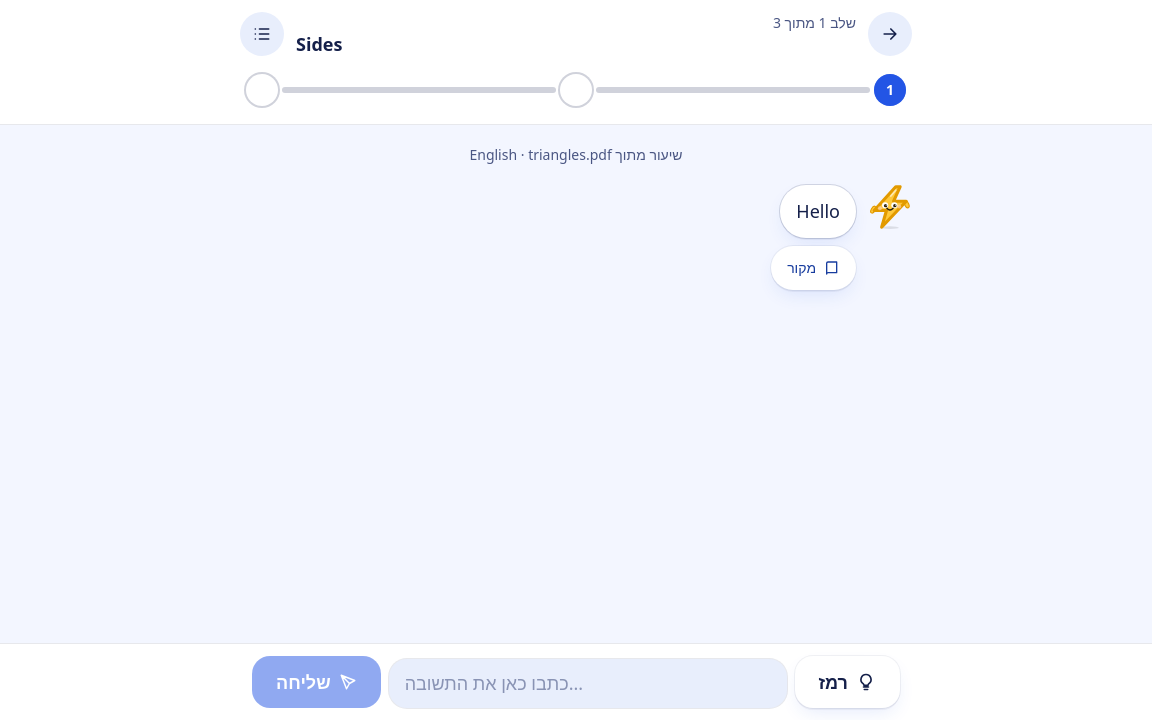
Scenario: answering › Stop keeps the partial text and gives the input back, and Continue asks again
expect the text "Hello" is shown: met, box [796,197,840,226]
Type "three" into the text box named "התשובה שלכם" at (588, 684), box [389,659,786,708]
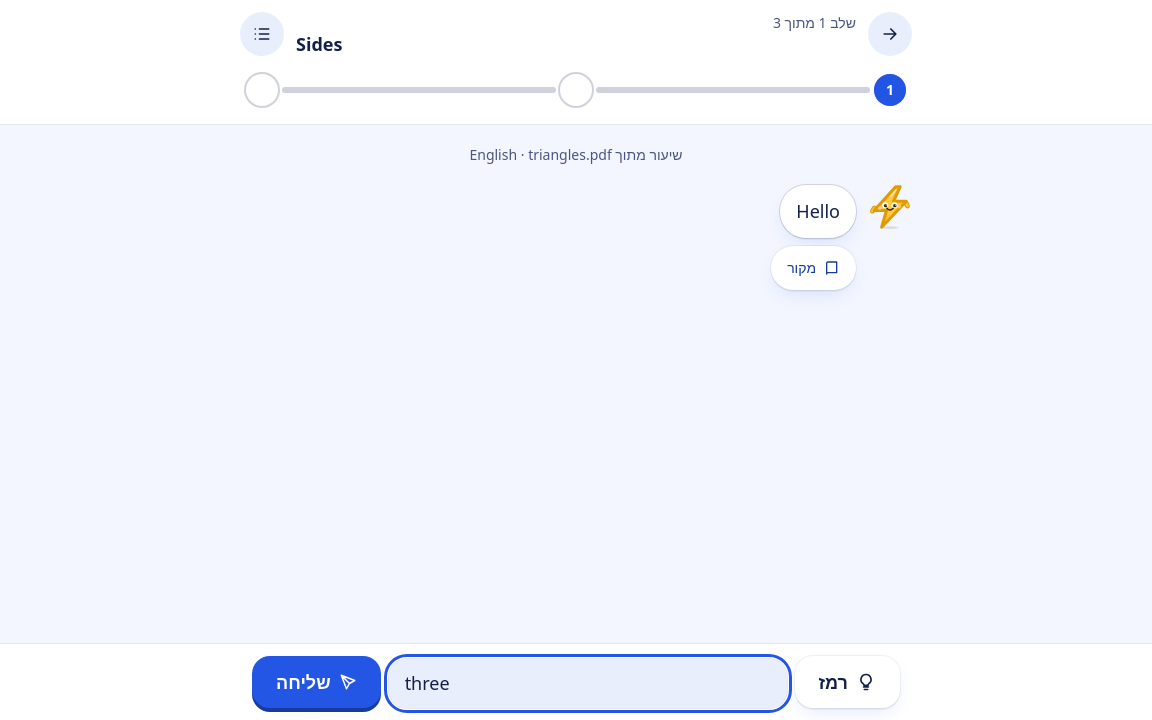
Click the button "שליחה" at (316, 682), box [252,656,381,708]
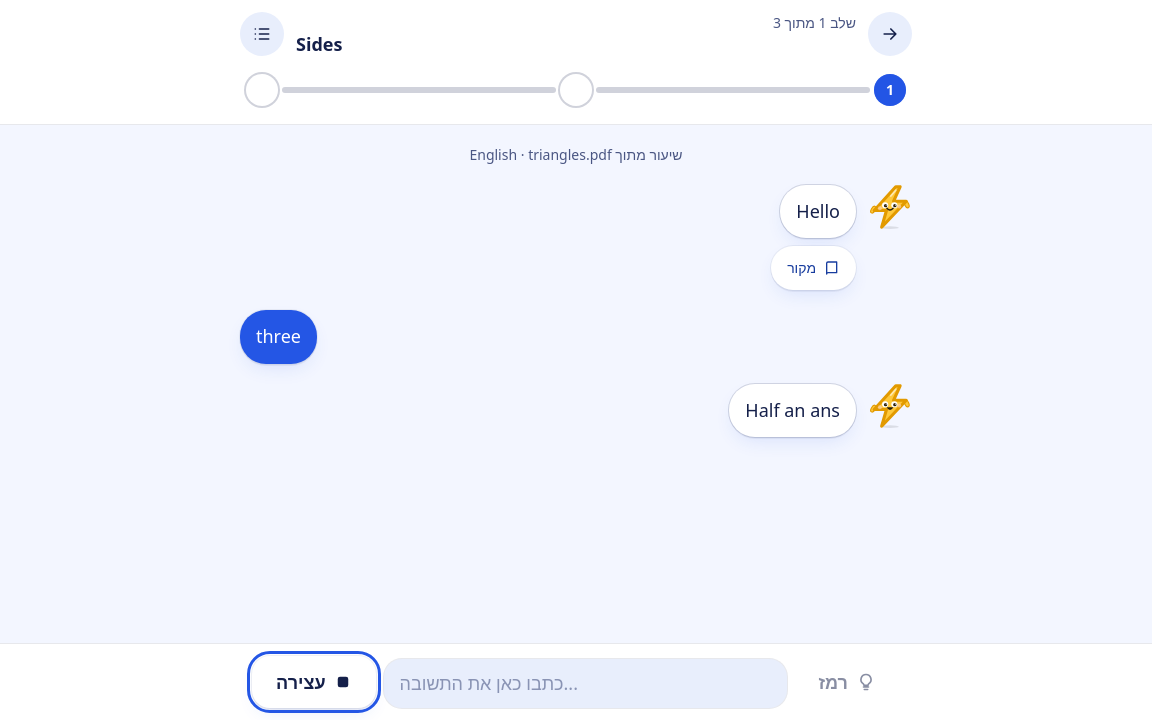
Click the button "עצירה" at (314, 682), box [252,656,376,708]
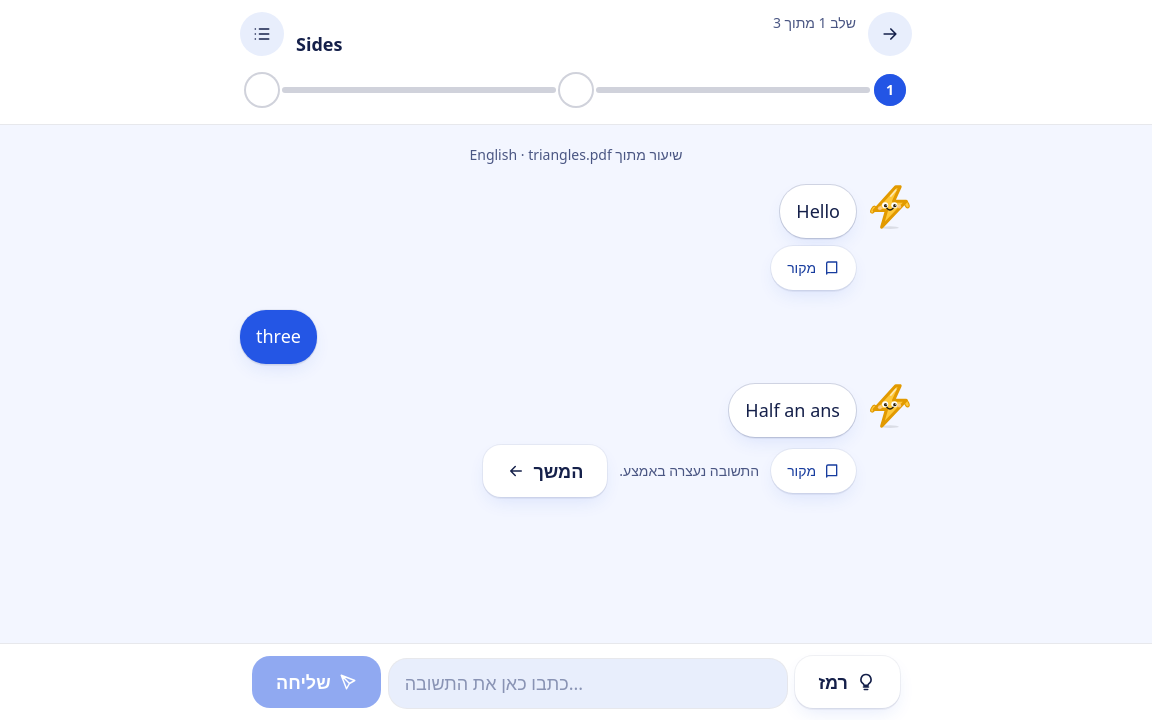
expect the text box named "התשובה שלכם" is enabled: met, box [389,659,786,708]
expect the text "Half an ans" is shown: met, box [745,396,840,425]
expect the text "התשובה נעצרה באמצע." is shown: met, box [619,461,759,481]
Click the button "המשך" at (545, 471), box [483,445,607,497]
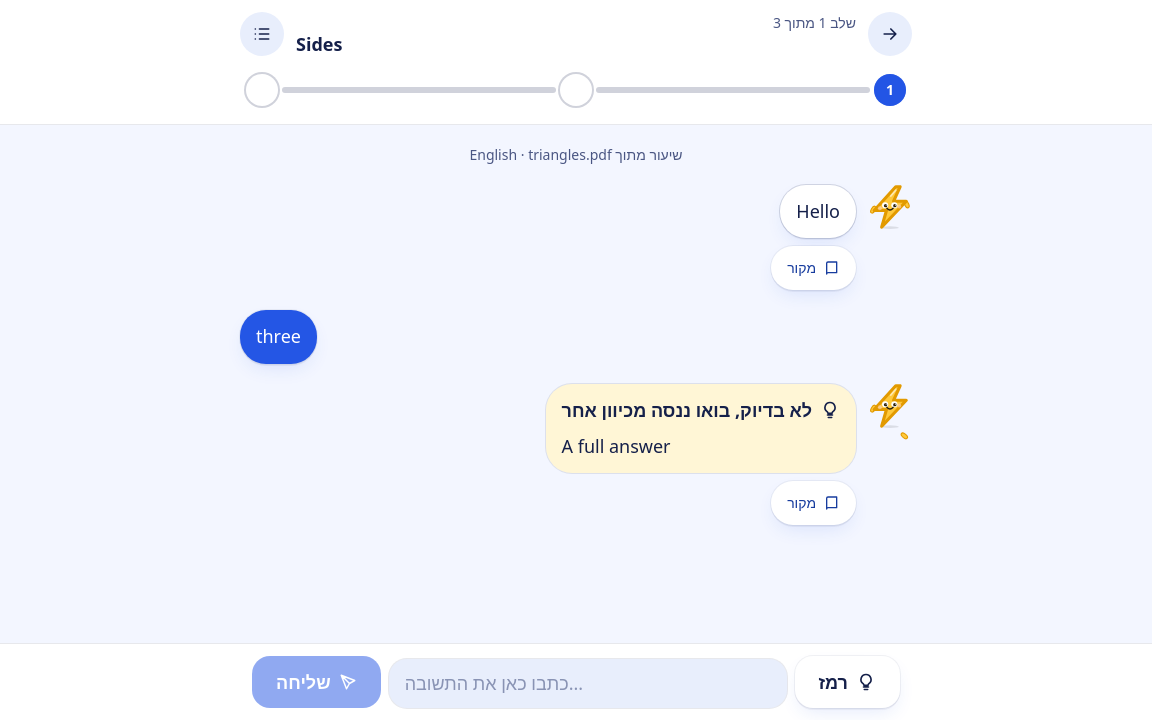
expect the text "A full answer" is shown: met, box [562,434,670,458]
expect the text "Half an ans" is gone: met
